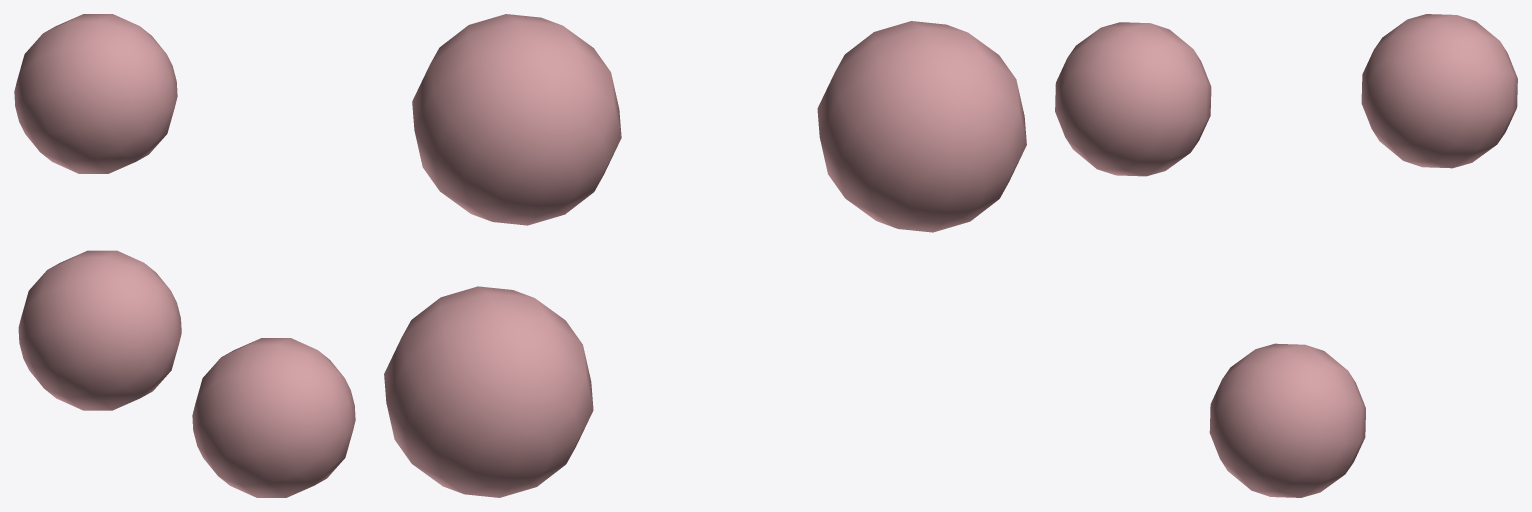
3 views of the same model, side by side, from view 1: azimuth 30°, elevation 25°; view 2: azimuth 150°, elevation 25°; view 3: azimuth 270°, elevation 25° (orthographic). The views are drawn at different scales.
Visible parts, largest first — view 1: ZA_2fc4dd4ea588fbfc; view 2: ZA_2fc4dd4ea588fbfc; view 3: ZA_2fc4dd4ea588fbfc.
Boxes of the visible parts, x1,y1,x2,y2 form: ZA_2fc4dd4ea588fbfc: (14, 14, 355, 497); ZA_2fc4dd4ea588fbfc: (384, 14, 1026, 497); ZA_2fc4dd4ea588fbfc: (1055, 14, 1517, 497).
Size of the model in its own units: 0.00723 by 0.0077 by 0.00758.
